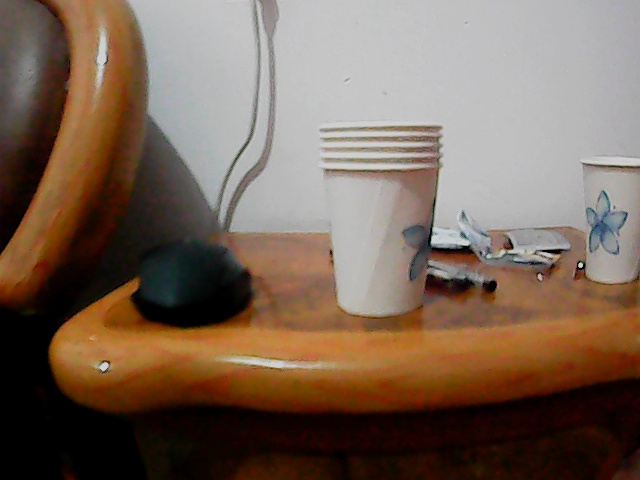cup: (317, 119, 443, 318)
mouse: (131, 236, 255, 322)
